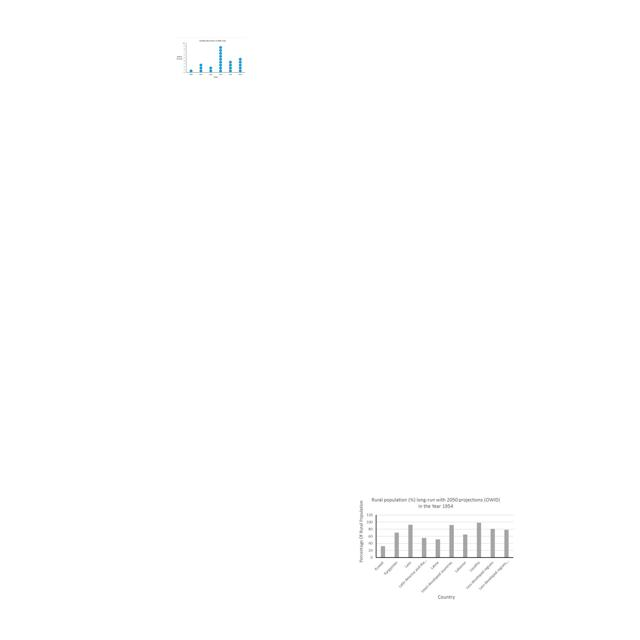Graph: (356, 496, 517, 603), (174, 37, 247, 80)
